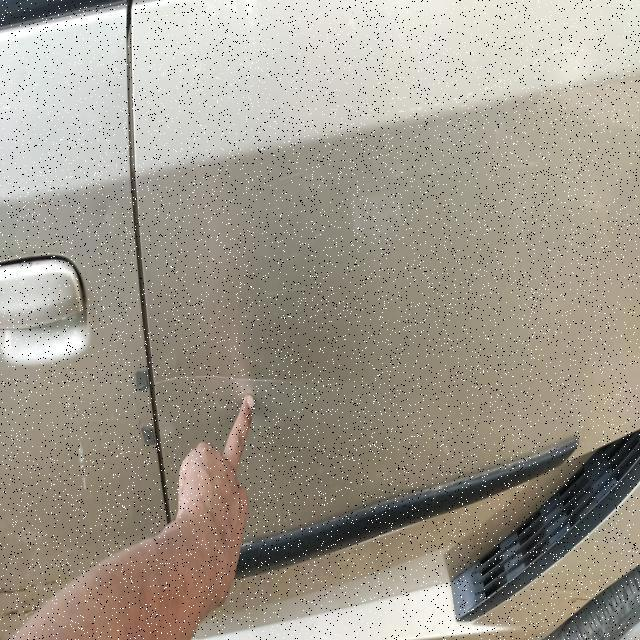car damage: (0, 31, 138, 605)
